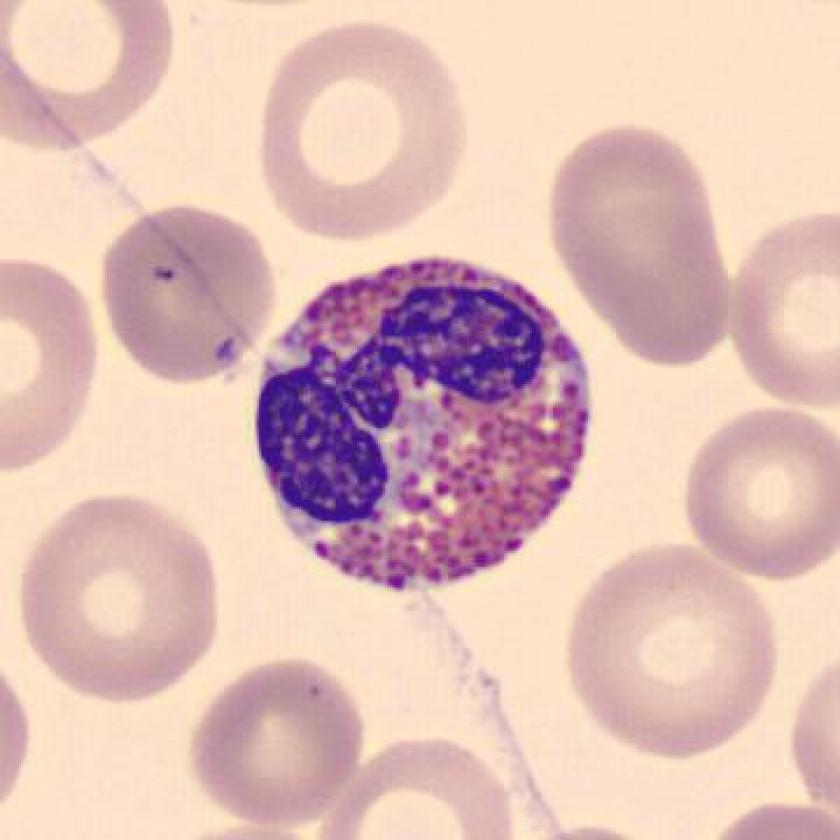eosinophil: (244, 242, 608, 603)
